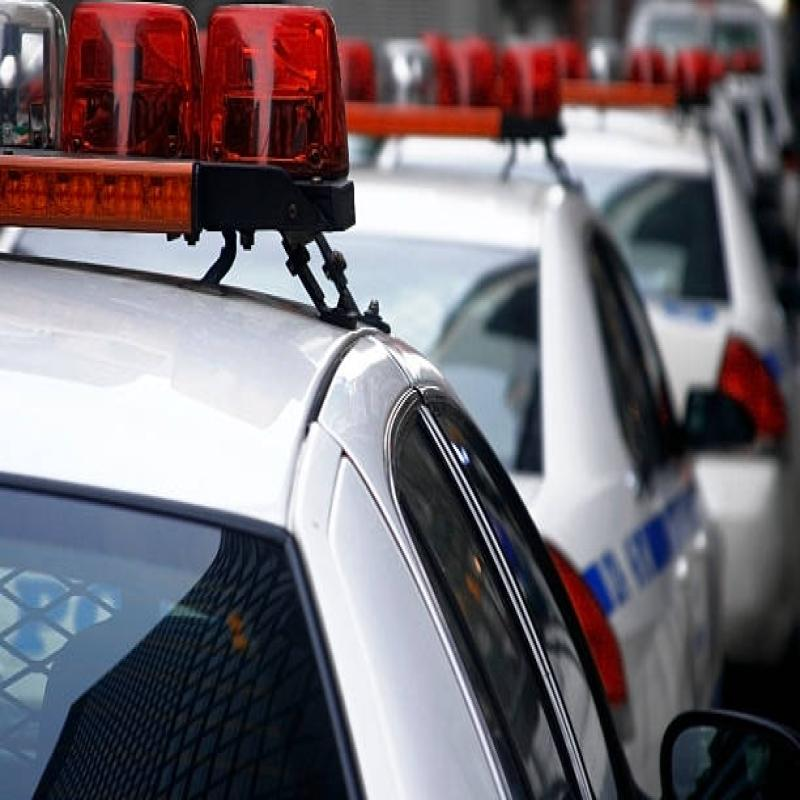AmbulanceSiren: (0, 0, 379, 268), (334, 24, 596, 196)
